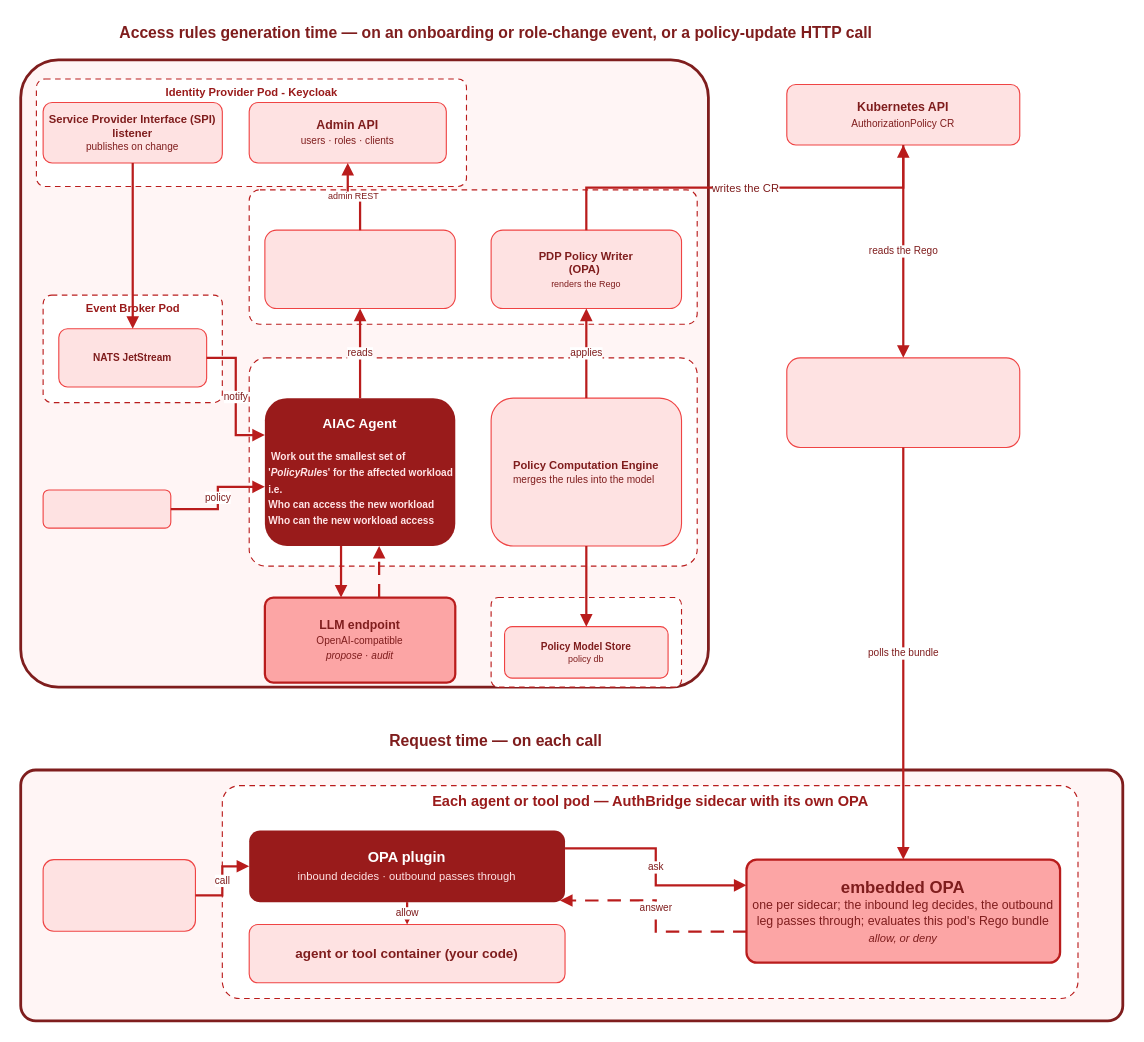
The diagram is 1144 pixels wide and 1042 high, and some of its shapes have lost their labels. The box of each missing label's shape, as (x1, y1, x2, y2) in pixels:
Access control policy: (42, 489, 171, 528)
Agent Pod: (248, 357, 697, 566)
bundle-service composes one bundle per pod: (786, 357, 1020, 447)
caller (user or agent): (42, 858, 195, 931)
IdP Configuration Service roles · scopes · clients: (264, 229, 455, 309)
Policy Model Store Pod: (490, 596, 682, 687)
Rossoctl Interface Pod: (248, 189, 697, 324)
